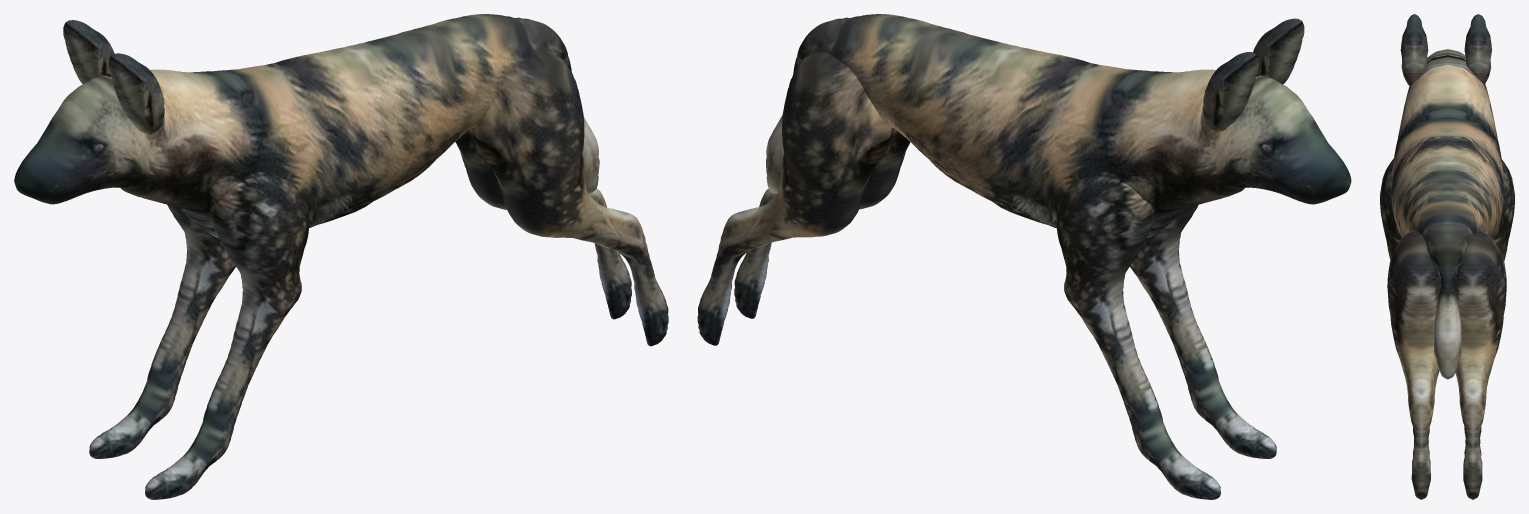
File: african-wild-dog.glb
3 renders of one model, left to right at view 1: azimuth 30°, elevation 25°; view 2: azimuth 150°, elevation 25°; view 3: azimuth 270°, elevation 25°, orthographic. The views are drawn at different scales.
Visible parts, largest first — view 1: mm_frame (11); view 2: mm_frame (11); view 3: mm_frame (11).
Boxes of the visible parts, x1,y1,x2,y2 form: mm_frame (11): (14, 14, 668, 499); mm_frame (11): (697, 14, 1351, 499); mm_frame (11): (1380, 14, 1514, 499).
Bounding box in the file's own units: 5.88 × 4.02 × 1.55.
1 material, 1 textured.
